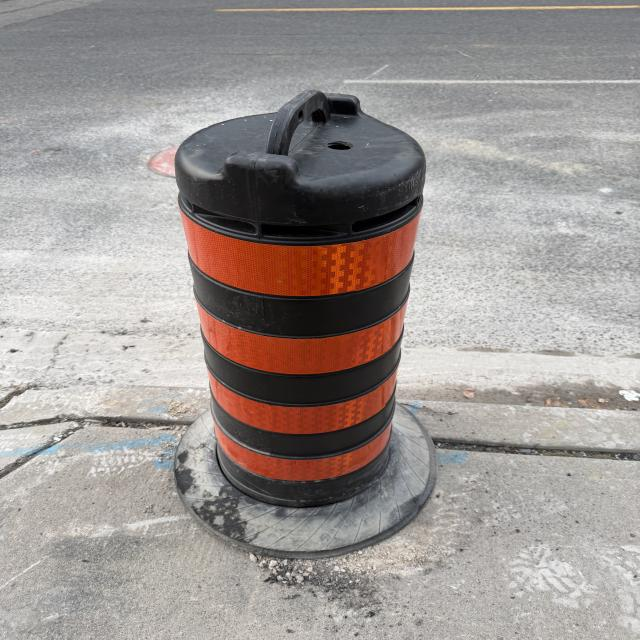Teraffic Barrel: (175, 91, 425, 507)
